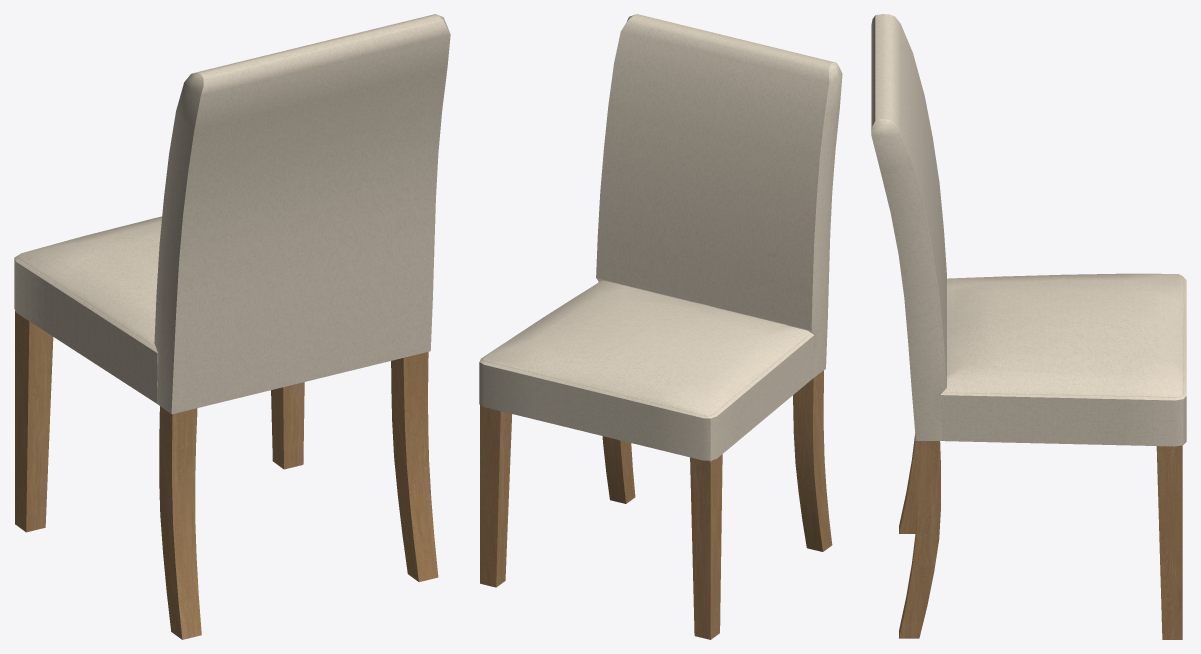
Rendered from IKEA_chear.gltf.
3 renders of one model, left to right at view 1: azimuth 30°, elevation 25°; view 2: azimuth 150°, elevation 25°; view 3: azimuth 270°, elevation 25°, orthographic. The views are drawn at different scales.
Visible parts, largest first — view 1: seat_LP; view 2: seat_LP; view 3: seat_LP.
Boxes of the visible parts, left/top/right/bottom form: seat_LP: left=14, top=14, right=450, bottom=639; seat_LP: left=479, top=14, right=842, bottom=639; seat_LP: left=871, top=14, right=1186, bottom=639.
Bounding box in the file's own units: 0.5073 × 0.9743 × 0.5398.
Materials: 1 (1 with a texture image).
